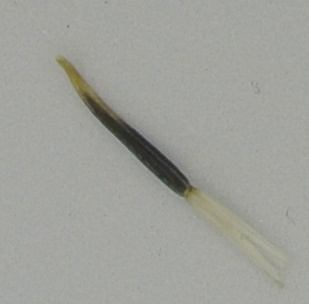เมล็ดดีเรียวยาว: (55, 49, 292, 291)
